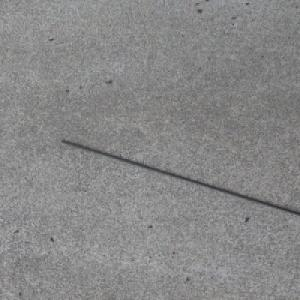LuggagePart: (59, 139, 300, 216)
